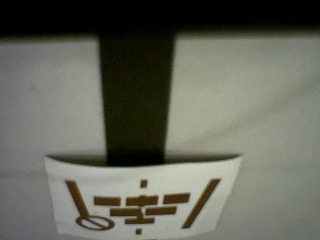Clearing_Zone: (62, 178, 223, 232)
